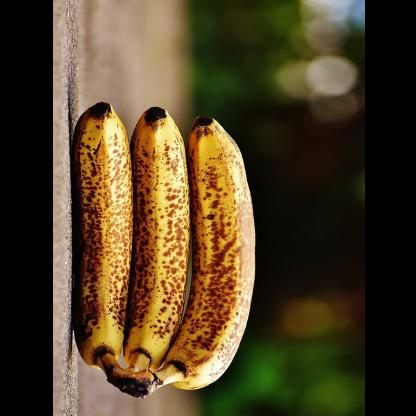banana: (152, 116, 254, 398), (124, 106, 190, 400), (72, 103, 134, 395)
